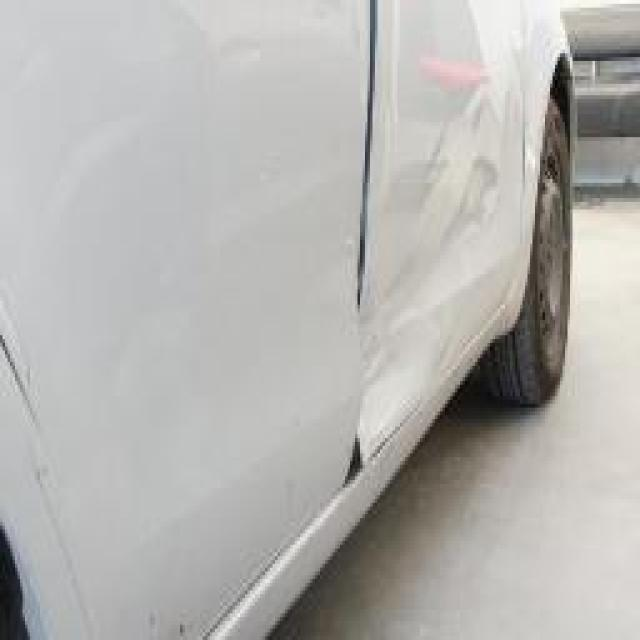Door: (358, 150, 471, 470)
